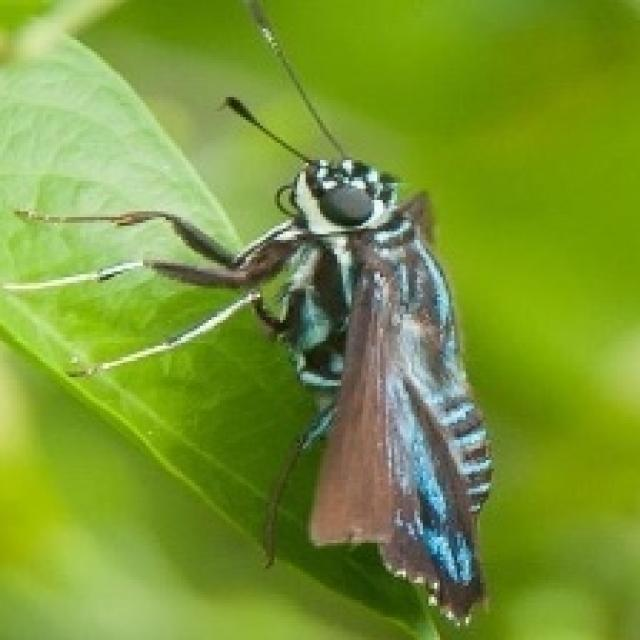butterfly: (3, 0, 494, 629)
